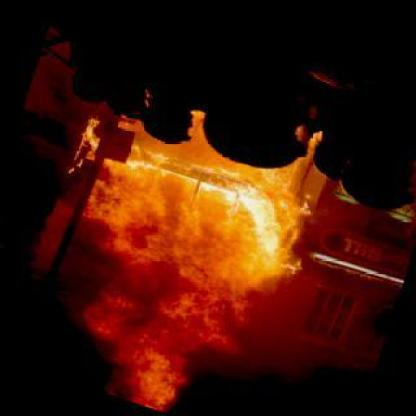Fire: (57, 108, 336, 409)
